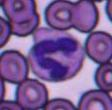N: (28, 27, 84, 81)
